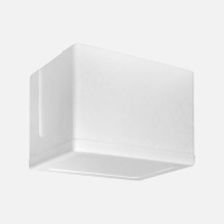foam_box: (23, 39, 202, 185)
